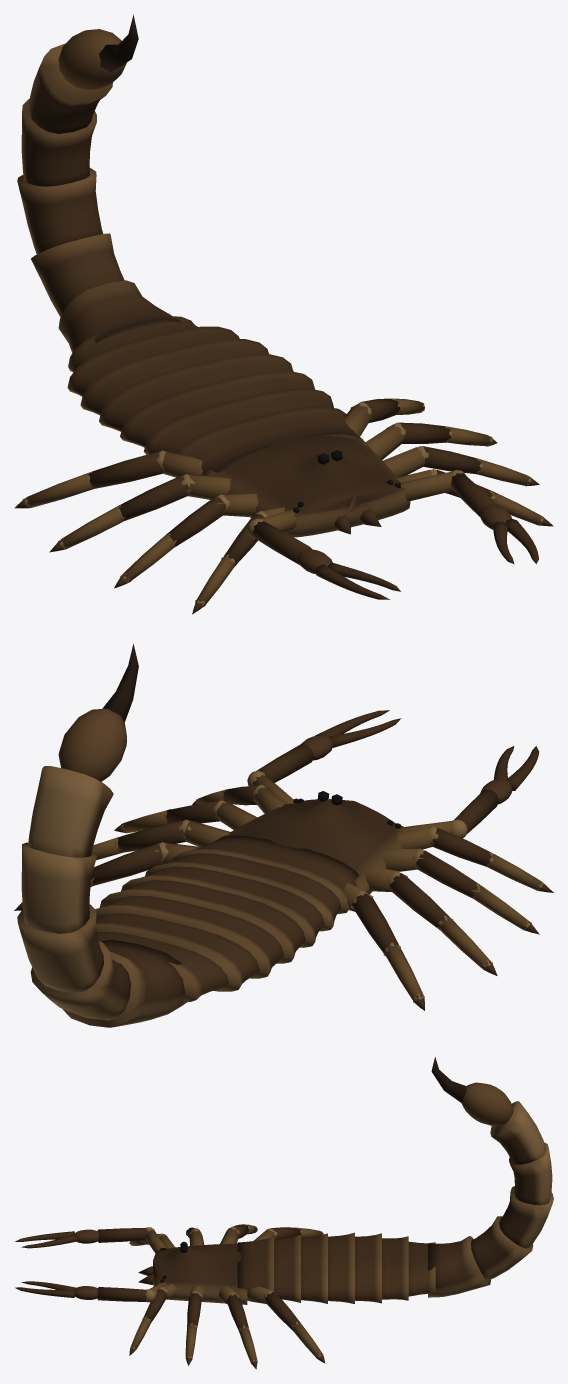
The model's file is ProscorpiusOsborni.fbx.
3 views of the same model, one above another, from view 1: azimuth 30°, elevation 25°; view 2: azimuth 150°, elevation 25°; view 3: azimuth 270°, elevation 25° (orthographic). The views are drawn at different scales.
Parts seen in each view (by area): view 1: ProscorpiusOsborni; view 2: ProscorpiusOsborni; view 3: ProscorpiusOsborni.
Boxes of the visible parts, bbox=[...] form: ProscorpiusOsborni: bbox=[14, 14, 553, 614]; ProscorpiusOsborni: bbox=[14, 643, 553, 1027]; ProscorpiusOsborni: bbox=[15, 1057, 553, 1369].
Bounding box in the file's own units: 0.877 × 0.7118 × 1.43.
